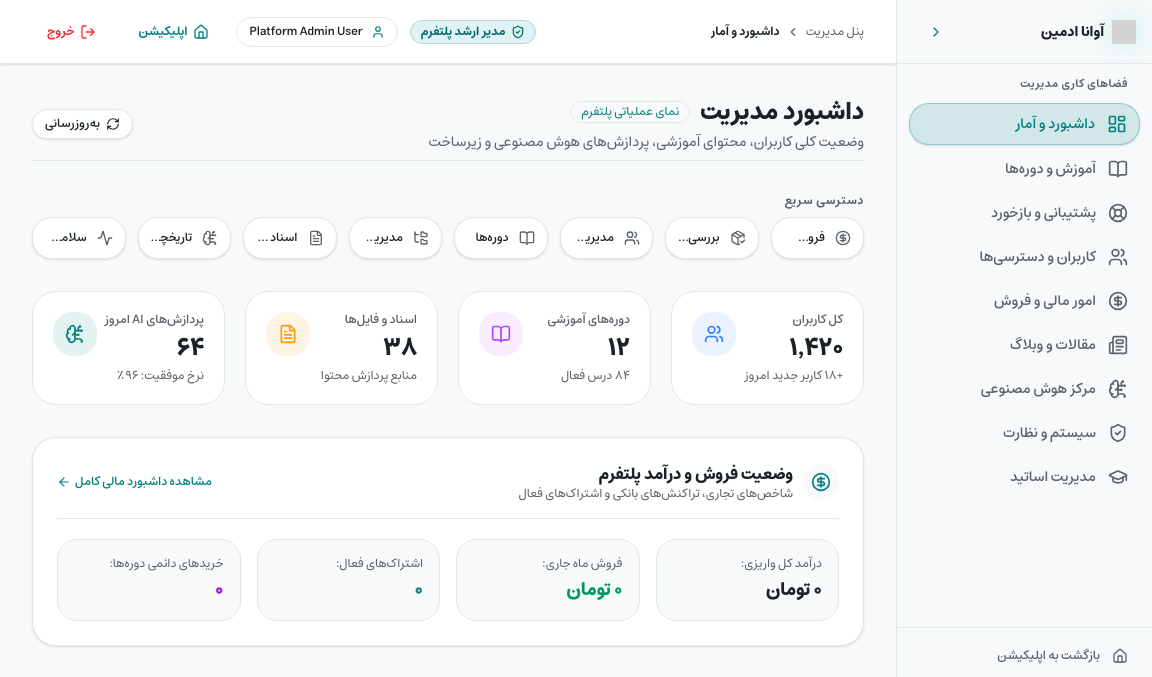
Test: Admin Dashboard — Phase 3 › Case 8 — Quick action navigation shortcuts link to existing admin routes
Check: the text "مدیریت کاربران" is shown, box [572,230,614,246]
Click the link "مدیریت کاربران" at (606, 238), box [560,217,653,259]
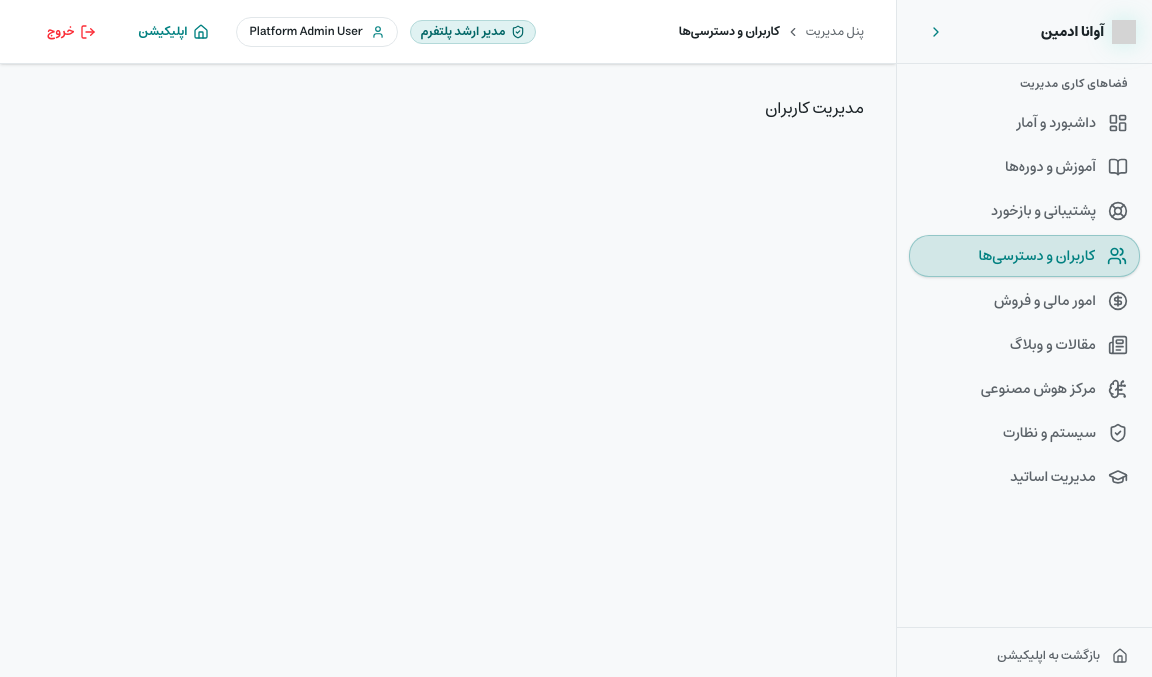
Check: the text "مدیریت کاربران" is shown, box [765,94,864,122]
